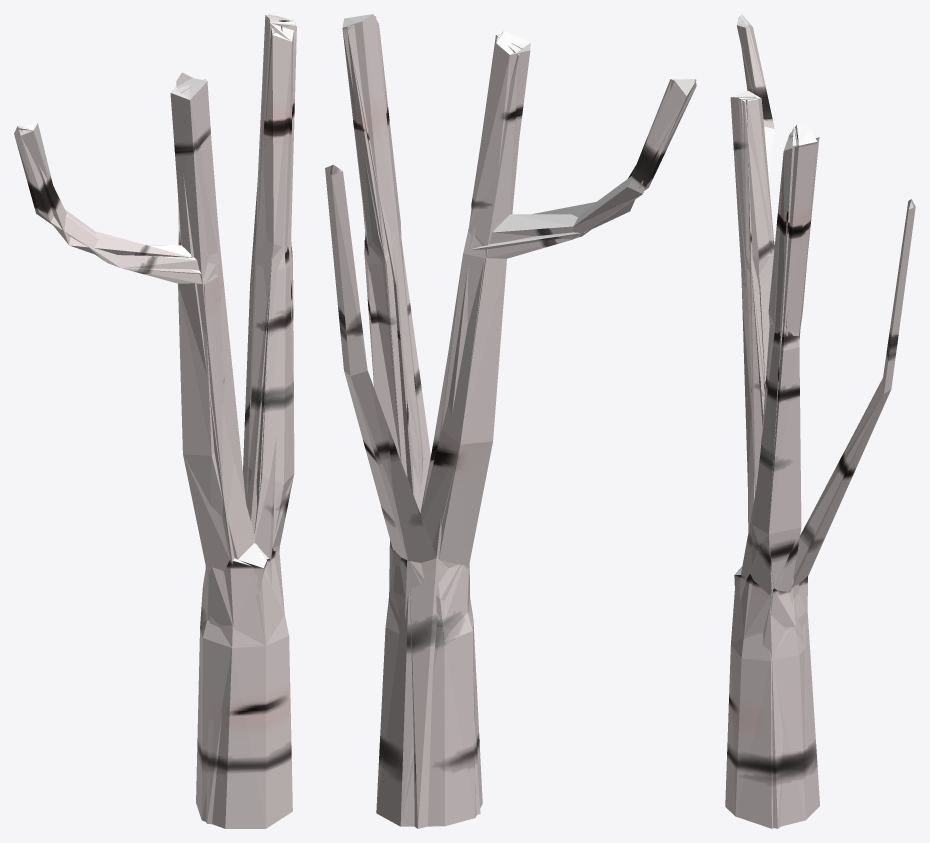
The model's file is Dry-V3_Birch_2_Snowy.fbx.
3 views of the same model, side by side, from view 1: azimuth 30°, elevation 25°; view 2: azimuth 150°, elevation 25°; view 3: azimuth 270°, elevation 25° (orthographic). The views are drawn at different scales.
Visible parts, largest first — view 1: Dry-V3 Birch 2_LOD0_Snowy, Dry-V3 Birch 2_LOD1_Snowy, Dry-V3 Birch 2_LOD3_Snowy, Dry-V3 Birch 2_LOD2_Snowy; view 2: Dry-V3 Birch 2_LOD0_Snowy, Dry-V3 Birch 2_LOD2_Snowy, Dry-V3 Birch 2_LOD1_Snowy, Dry-V3 Birch 2_LOD3_Snowy; view 3: Dry-V3 Birch 2_LOD0_Snowy, Dry-V3 Birch 2_LOD1_Snowy, Dry-V3 Birch 2_LOD2_Snowy, Dry-V3 Birch 2_LOD3_Snowy.
Boxes of the visible parts, x1,y1,x2,y2 form: Dry-V3 Birch 2_LOD0_Snowy: (14,15,294,828); Dry-V3 Birch 2_LOD1_Snowy: (14,15,295,645); Dry-V3 Birch 2_LOD3_Snowy: (39,26,282,821); Dry-V3 Birch 2_LOD2_Snowy: (21,14,296,824); Dry-V3 Birch 2_LOD0_Snowy: (325,14,696,826); Dry-V3 Birch 2_LOD2_Snowy: (344,25,681,826); Dry-V3 Birch 2_LOD1_Snowy: (342,16,696,826); Dry-V3 Birch 2_LOD3_Snowy: (347,30,640,828); Dry-V3 Birch 2_LOD0_Snowy: (725,14,915,828); Dry-V3 Birch 2_LOD1_Snowy: (731,15,817,643); Dry-V3 Birch 2_LOD2_Snowy: (730,18,890,819); Dry-V3 Birch 2_LOD3_Snowy: (739,72,882,828).
Size of the model in its own units: 194 by 462 by 114.
